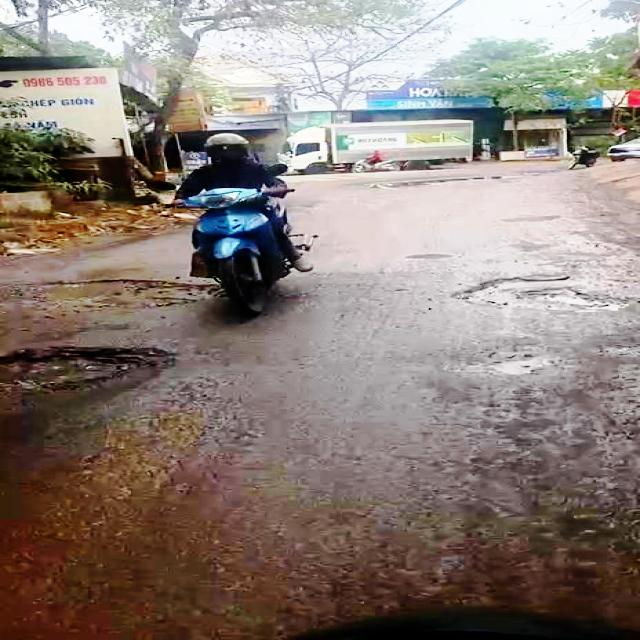pothole: (0, 343, 192, 417), (446, 270, 630, 318), (15, 276, 236, 310), (439, 350, 567, 379)
